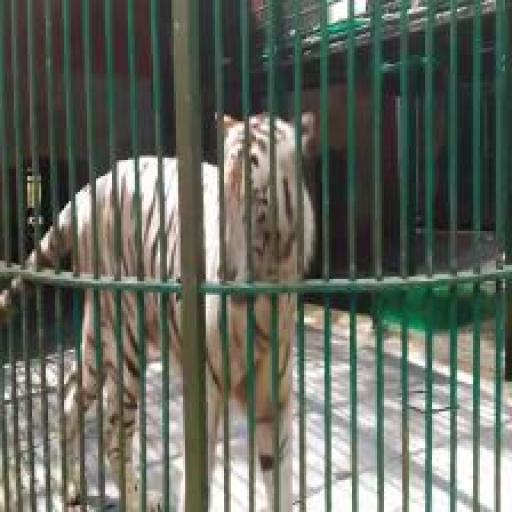Tiger: (0, 107, 315, 511)
